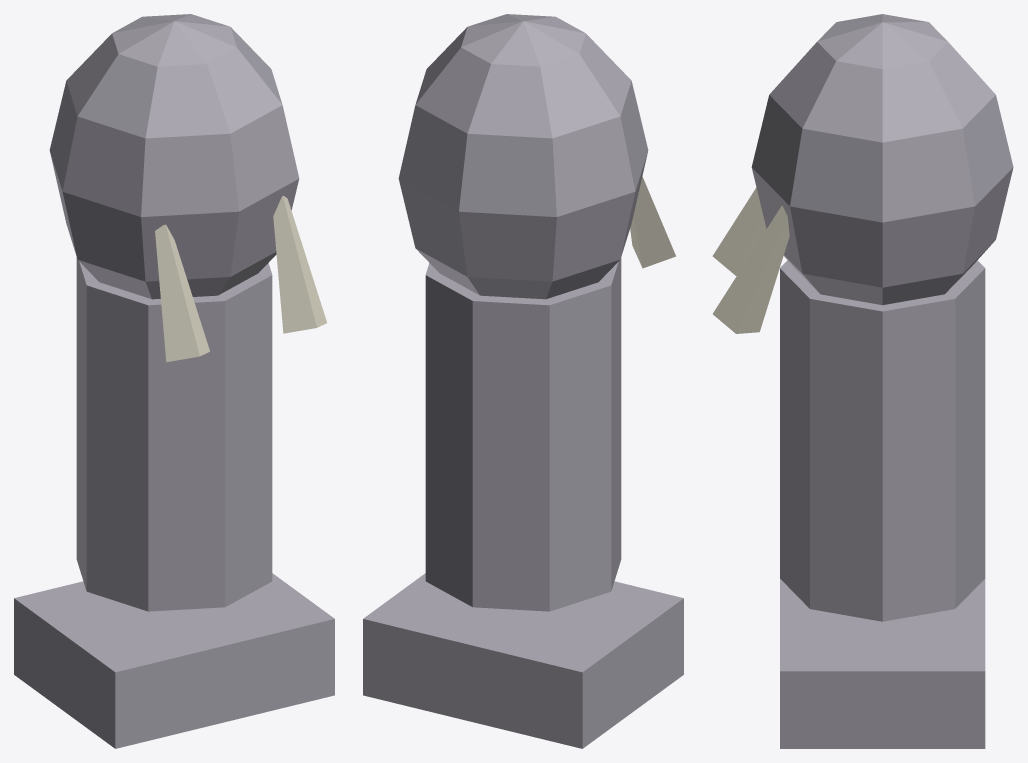
The model's file is troll_idol.dae.
The picture shows the model from 3 angles, left to right: view 1: azimuth 30°, elevation 25°; view 2: azimuth 150°, elevation 25°; view 3: azimuth 270°, elevation 25°; orthographic projection.
Visible parts, largest first — view 1: Cylinder, Sphere, Cube, Cone, Cone.001; view 2: Cylinder, Sphere, Cube, Cone; view 3: Cylinder, Sphere, Cube, Cone.001, Cone.
Part boxes in pixels (x1,y1,x2,y2): Cylinder: (76,257,272,611); Sphere: (49,14,299,299); Cube: (14,573,334,748); Cone: (155,224,209,362); Cone.001: (273,196,326,333); Cylinder: (425,257,621,611); Sphere: (398,14,648,299); Cube: (363,573,683,748); Cone: (630,176,675,268); Cylinder: (780,260,985,621); Sphere: (751,14,1013,305); Cube: (780,579,985,748); Cone.001: (713,206,789,333); Cone: (712,187,766,275).
Bounding box in the file's own units: 30.6 × 35.18 × 86.7.
